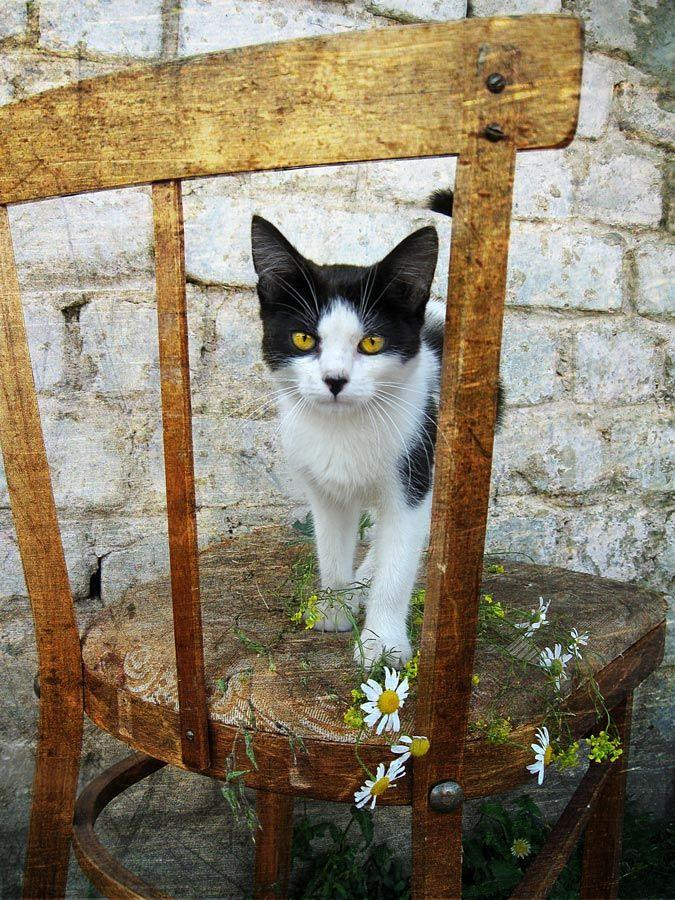kedo: (255, 218, 438, 572)
